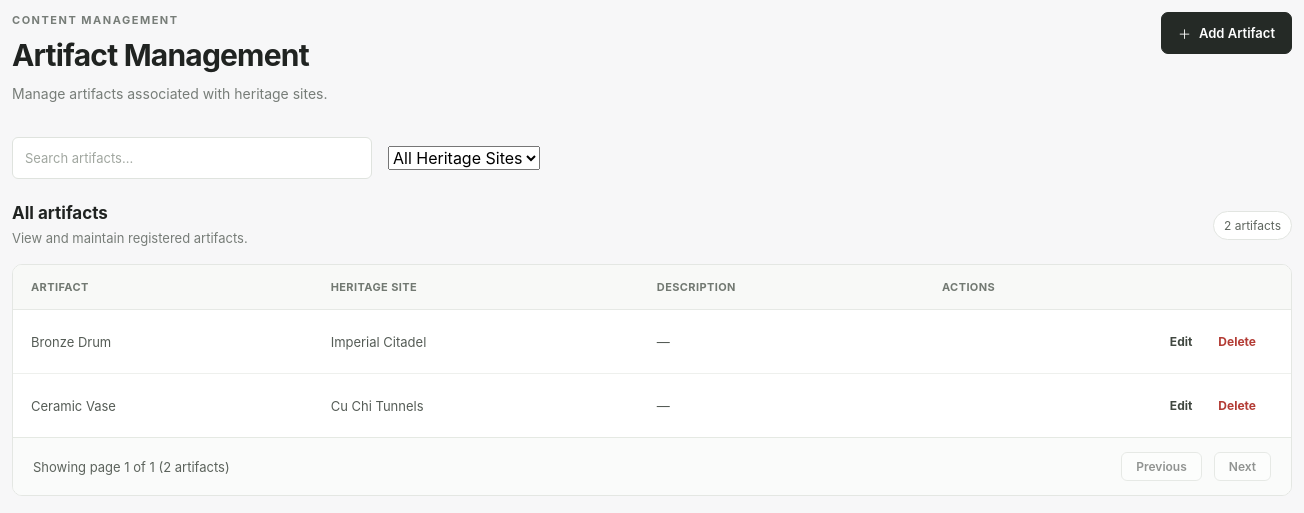
Test: ArtifactsPage — Heritage Site filter & pagination › requests /api/artifacts with siteId when a site is chosen and drops it for "All"
Check: the text "Bronze Drum" is shown, box [13,310,313,374]
Select "Cu Chi Tunnels" in the dropdown named "filter by heritage site". click: point(464, 158)
box: [388,146,540,170]
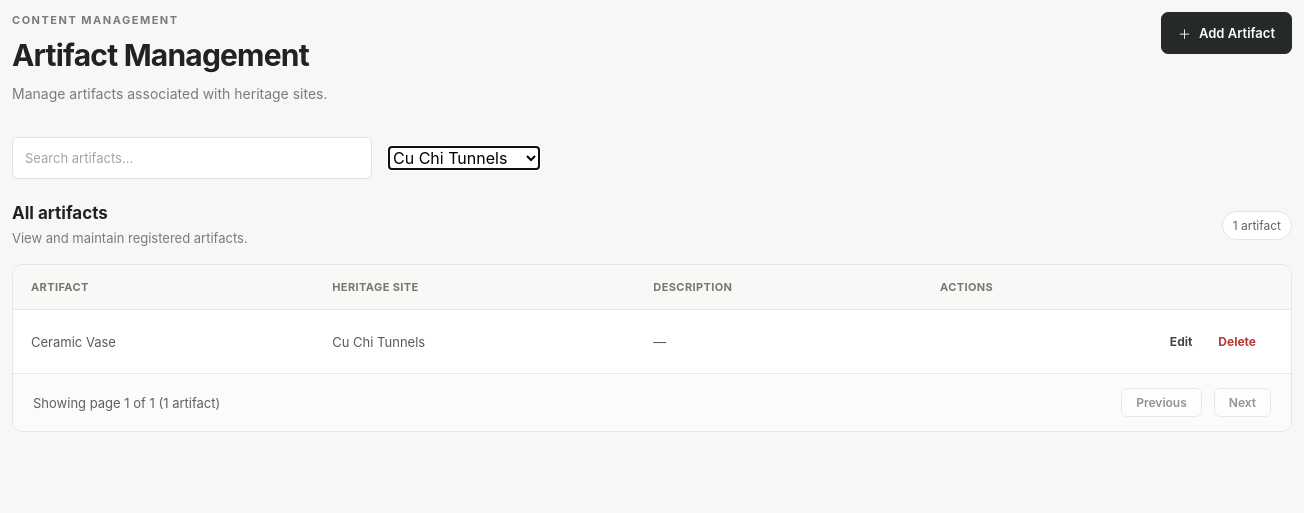
Check: the text "Ceramic Vase" is shown, box [13,310,314,373]
Check: the text "Bronze Drum" is gone
Select "All Heritage Sites" in the dropdown named "filter by heritage site". click: point(464, 158)
box: [388,146,540,170]
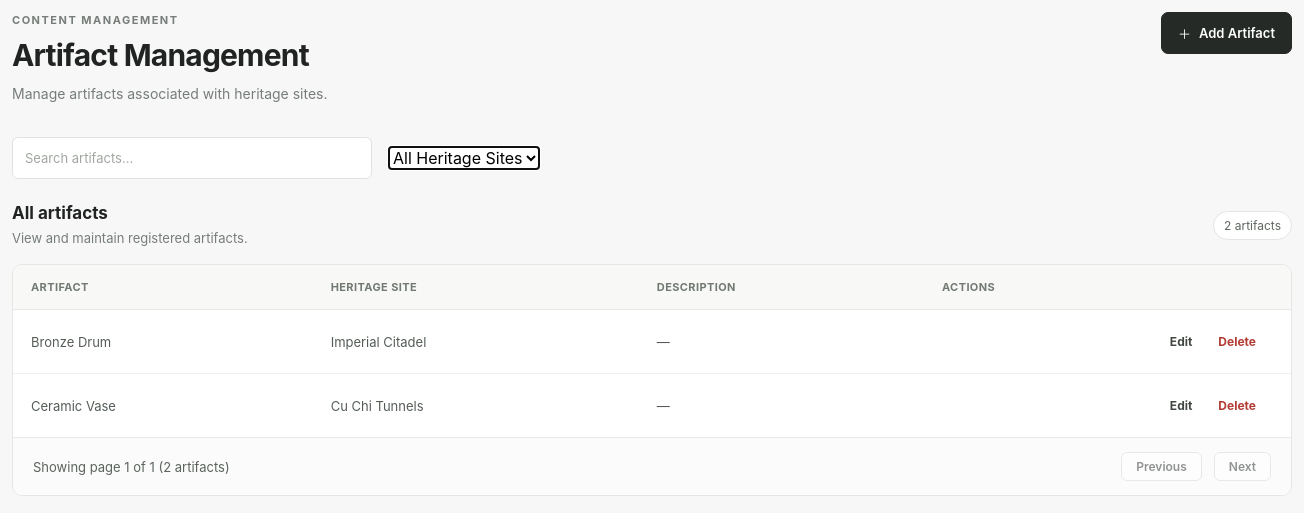
Check: the text "Bronze Drum" is shown, box [13,310,313,374]
